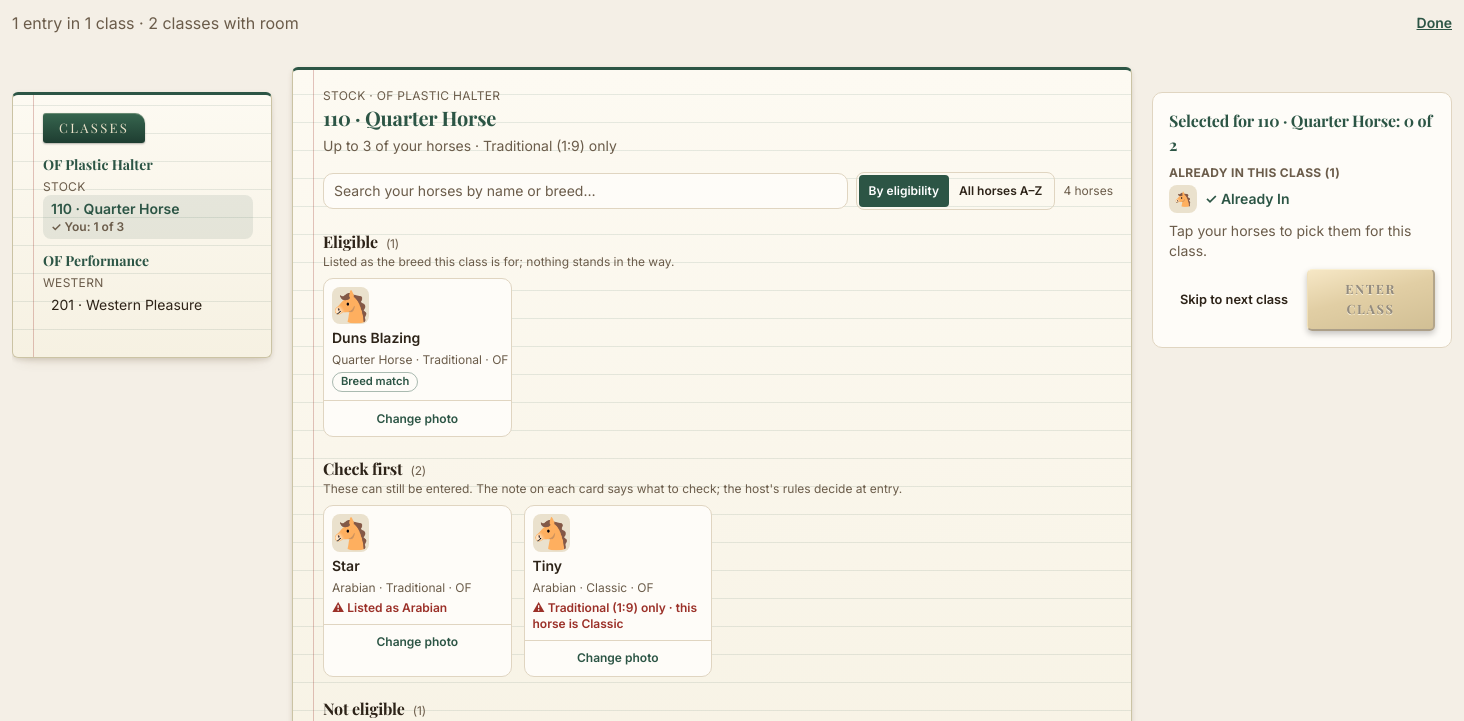
Test case: EnterShowWorkbench › online shows default each picked horse to its primary photo
The image size is (1464, 721).
Click the button "🐴 Duns Blazing Quarter Horse · Traditional · OF Breed match": [417, 340] box [324,279,510,400]
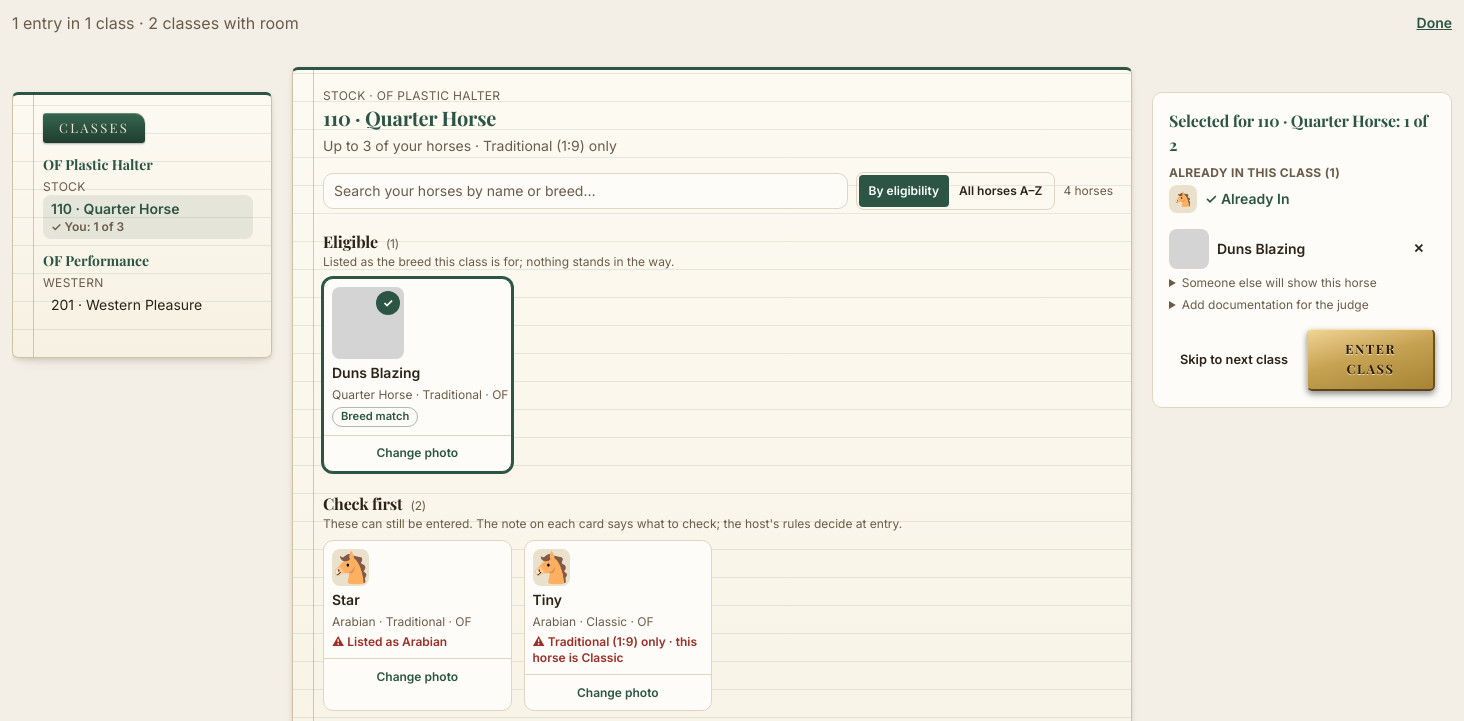
Expected: the button with test id "enter-class-button" is enabled
Click the button with test id "enter-class-button": [1371, 360] box [1307,329,1435,391]
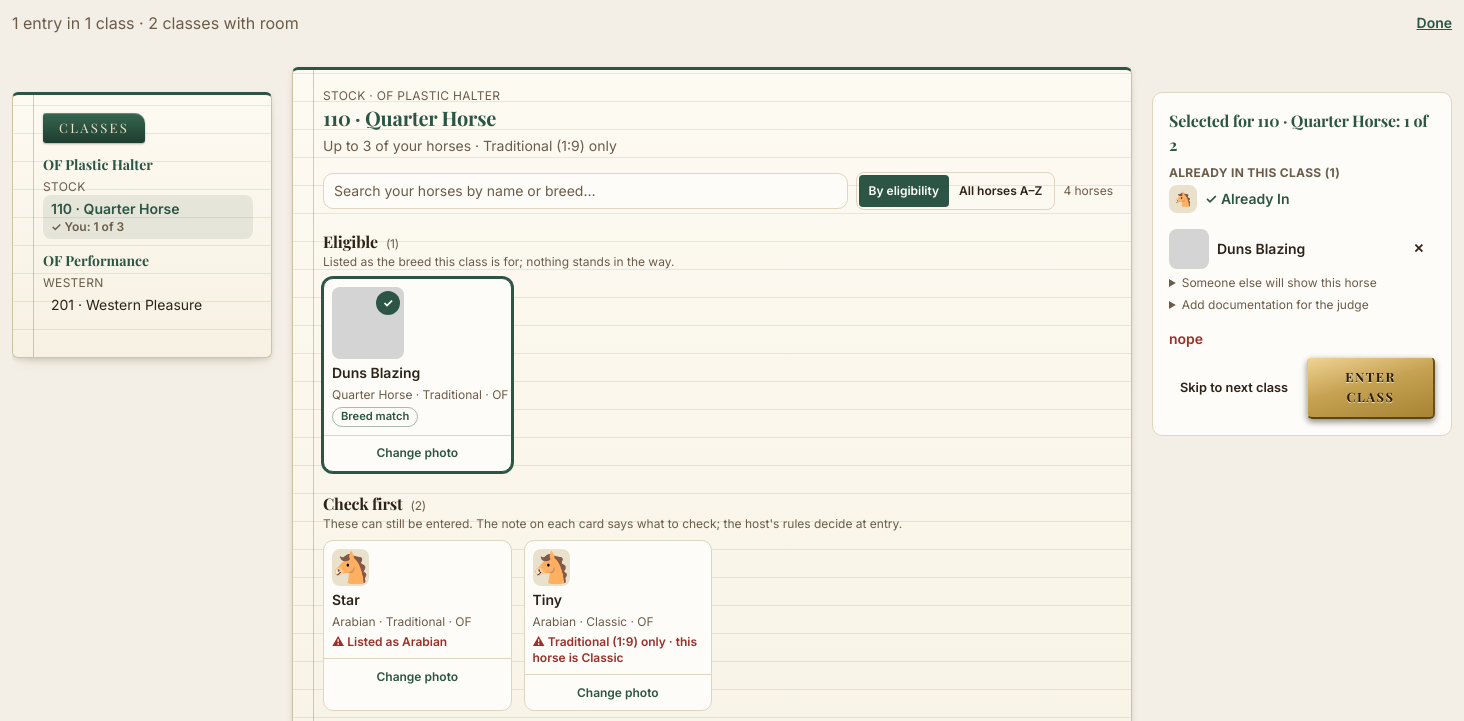
Expected: the text "nope" is shown, [1169,330,1203,347]
